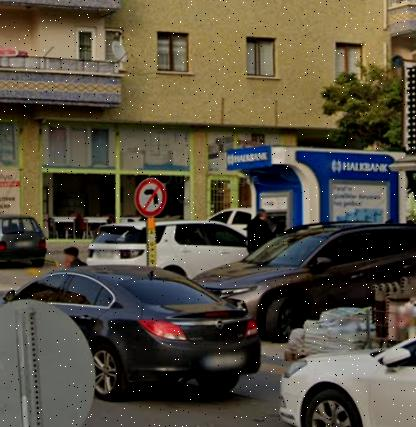leftturnsareforbidden: (134, 178, 167, 218)
